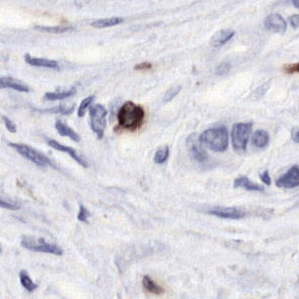Lymphocyte: (112, 100, 150, 130)
